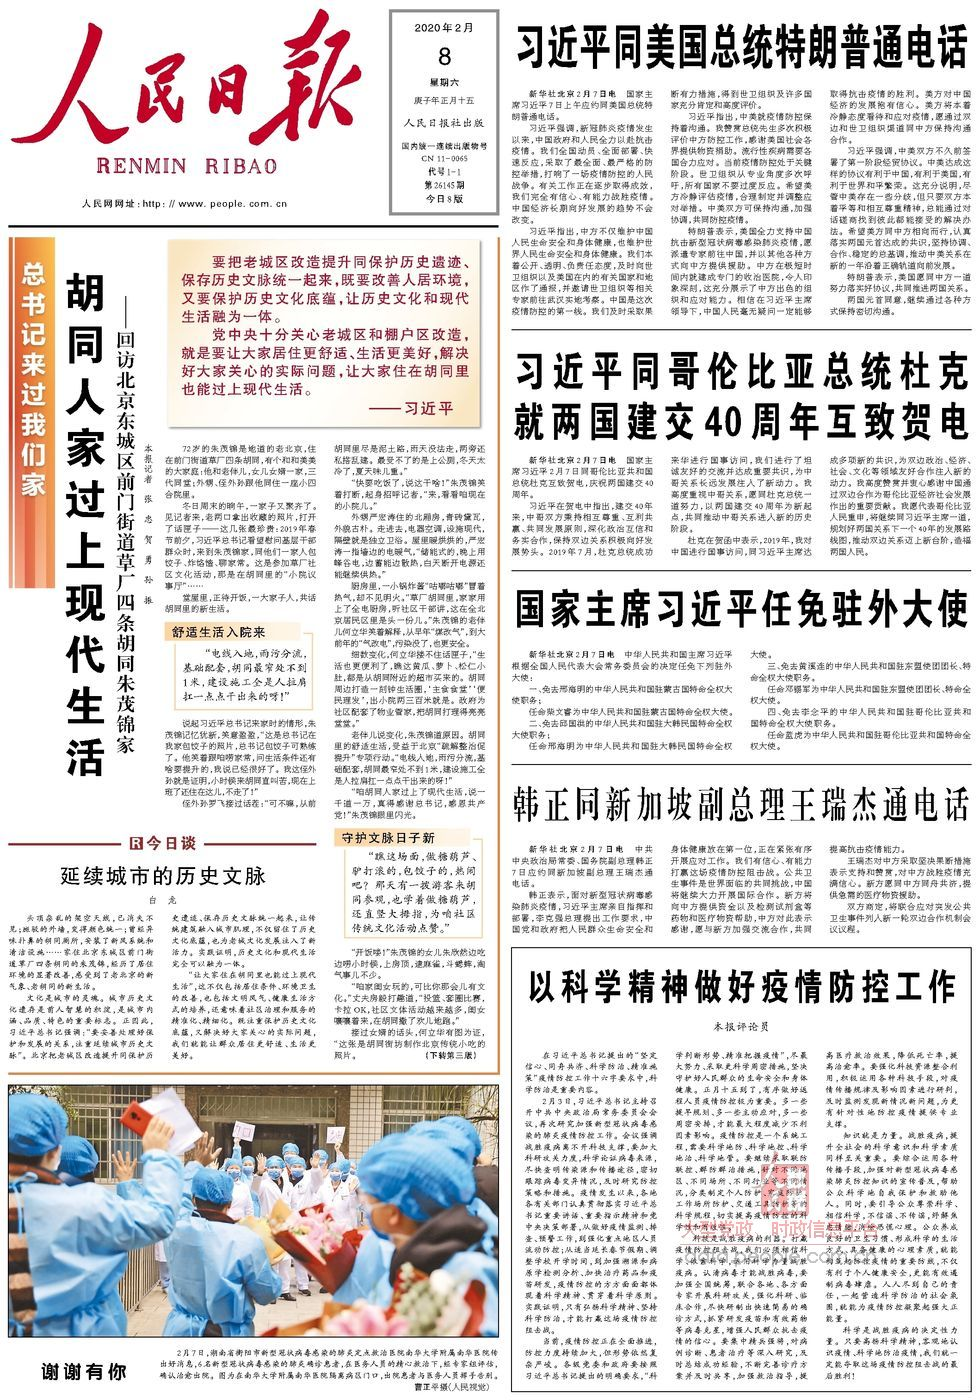pic: (5, 1079, 503, 1341)
